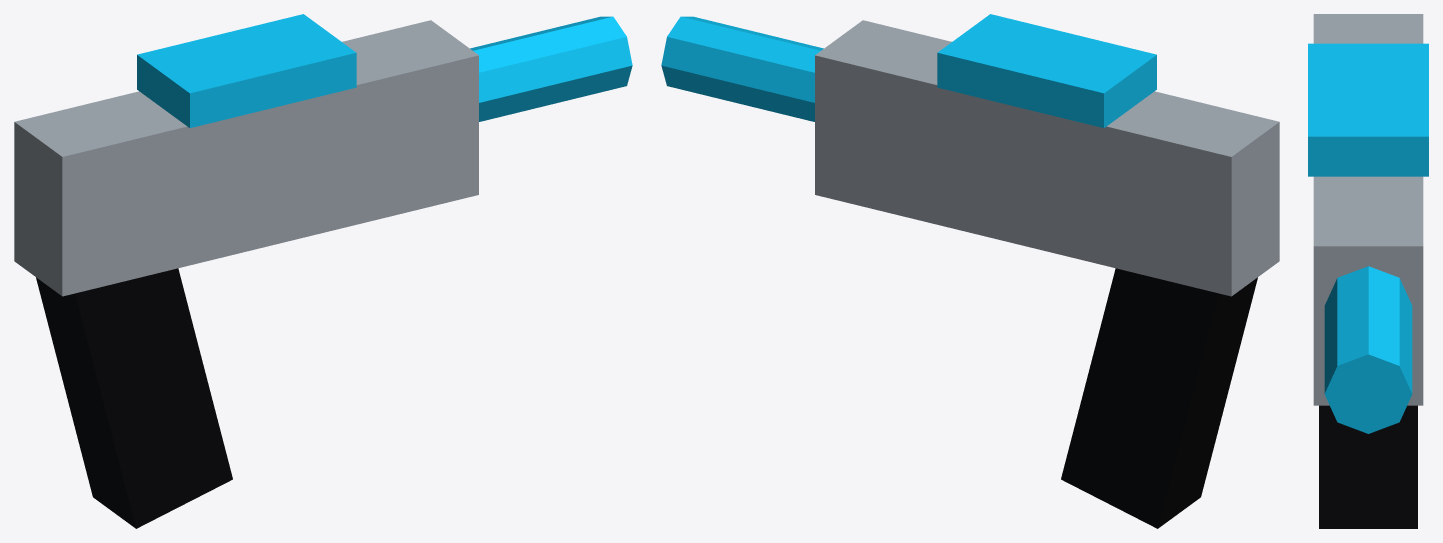
File: laser_pistol.obj
The picture shows the model from 3 angles, left to right: view 1: azimuth 30°, elevation 25°; view 2: azimuth 150°, elevation 25°; view 3: azimuth 270°, elevation 25°; orthographic projection. The views are drawn at different scales.
Parts seen in each view (by area): view 1: laser_pistol; view 2: laser_pistol; view 3: laser_pistol.
Part boxes in pixels (x1,y1,x2,y2): laser_pistol: (14,14,632,528); laser_pistol: (661,14,1279,528); laser_pistol: (1308,14,1428,528).
Size of the model in its own units: 0.345 by 0.2449 by 0.055.
